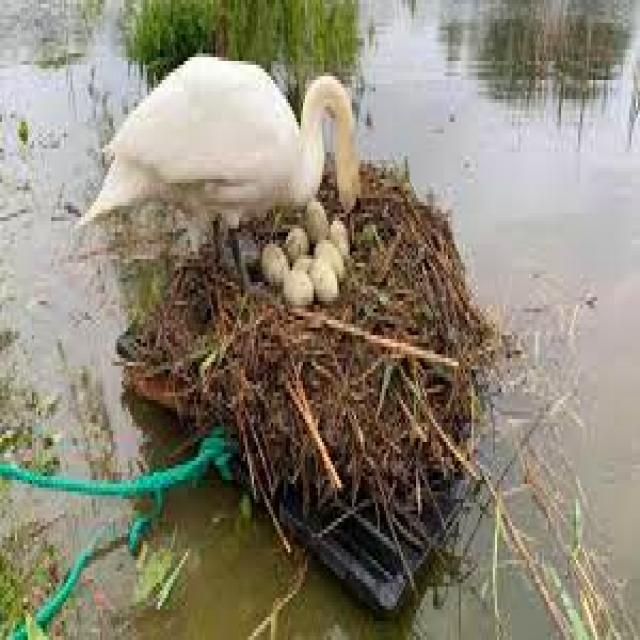swan: (77, 53, 356, 225)
